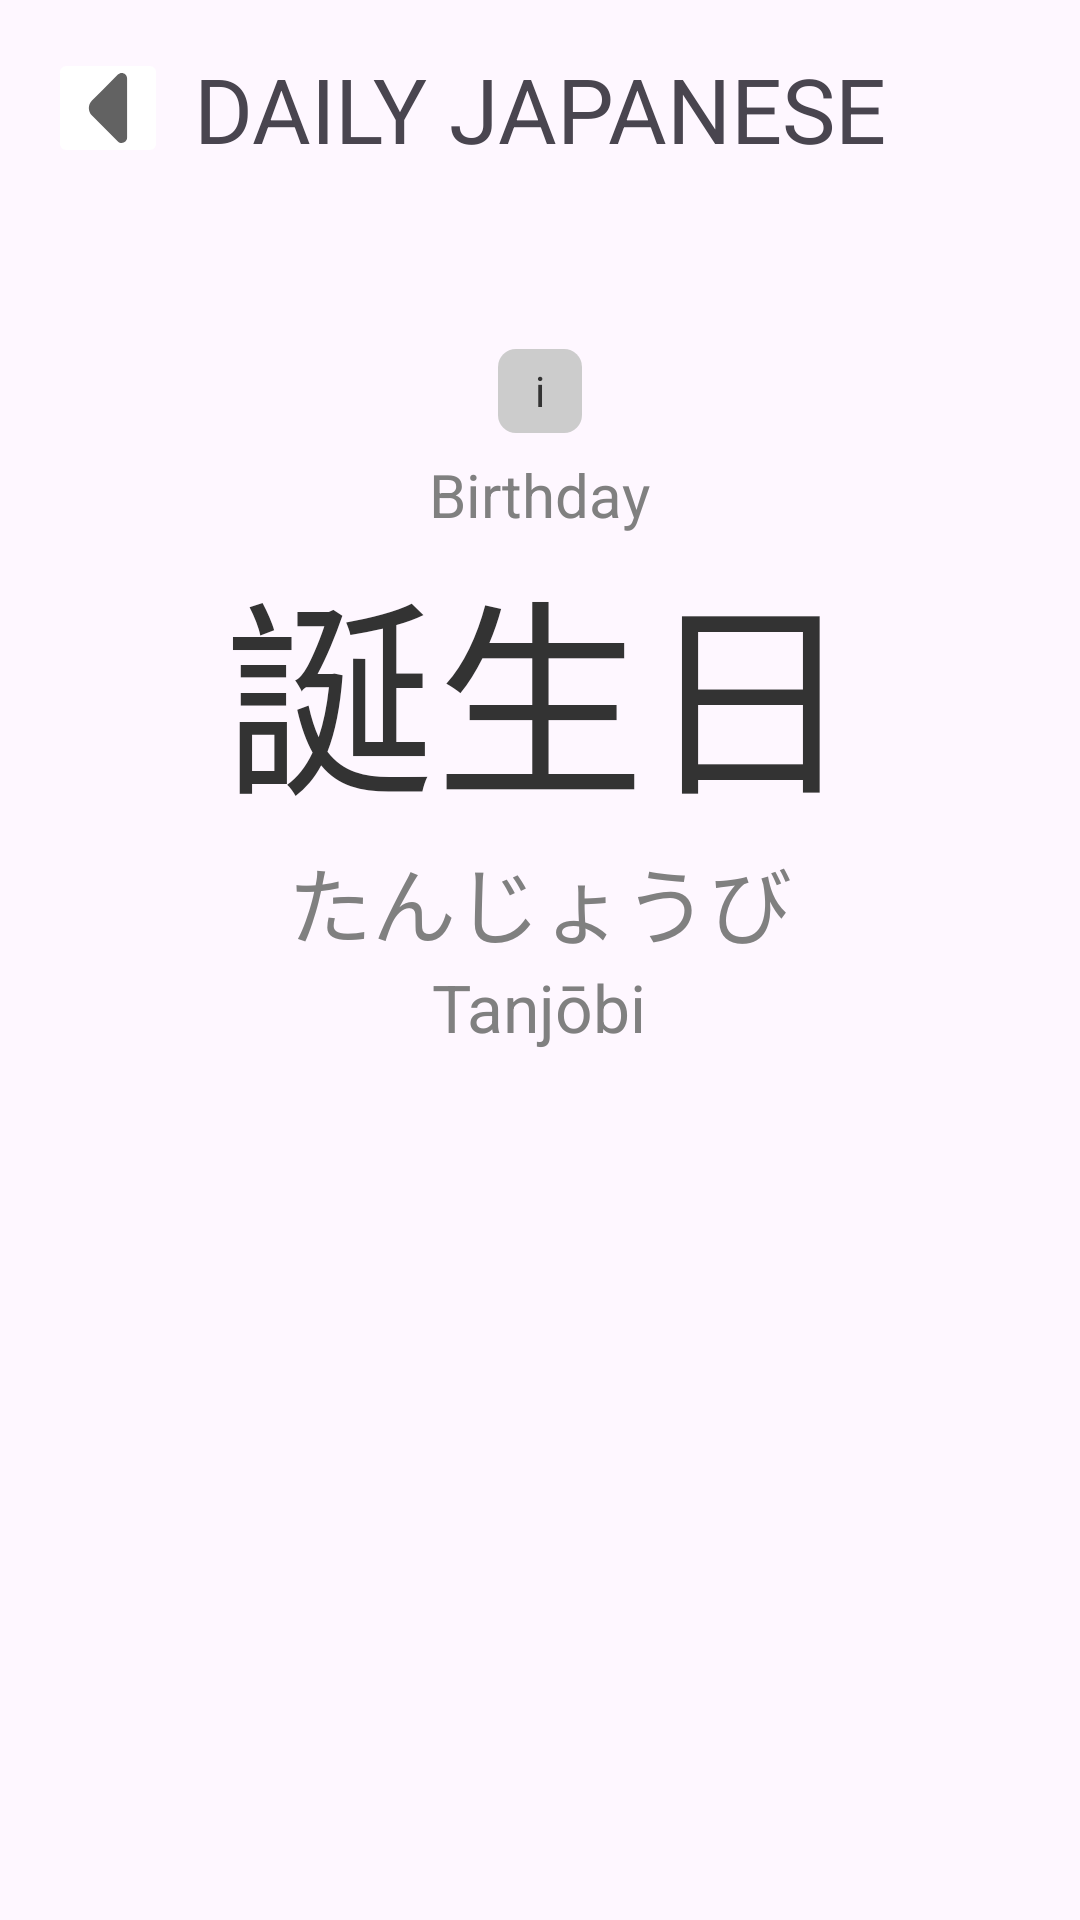

Icon bounding boxes for this 1080px×1920px phone screenshot, format rect(x1, y1, x2, y2):
Return button: rect(89, 73, 127, 143)
